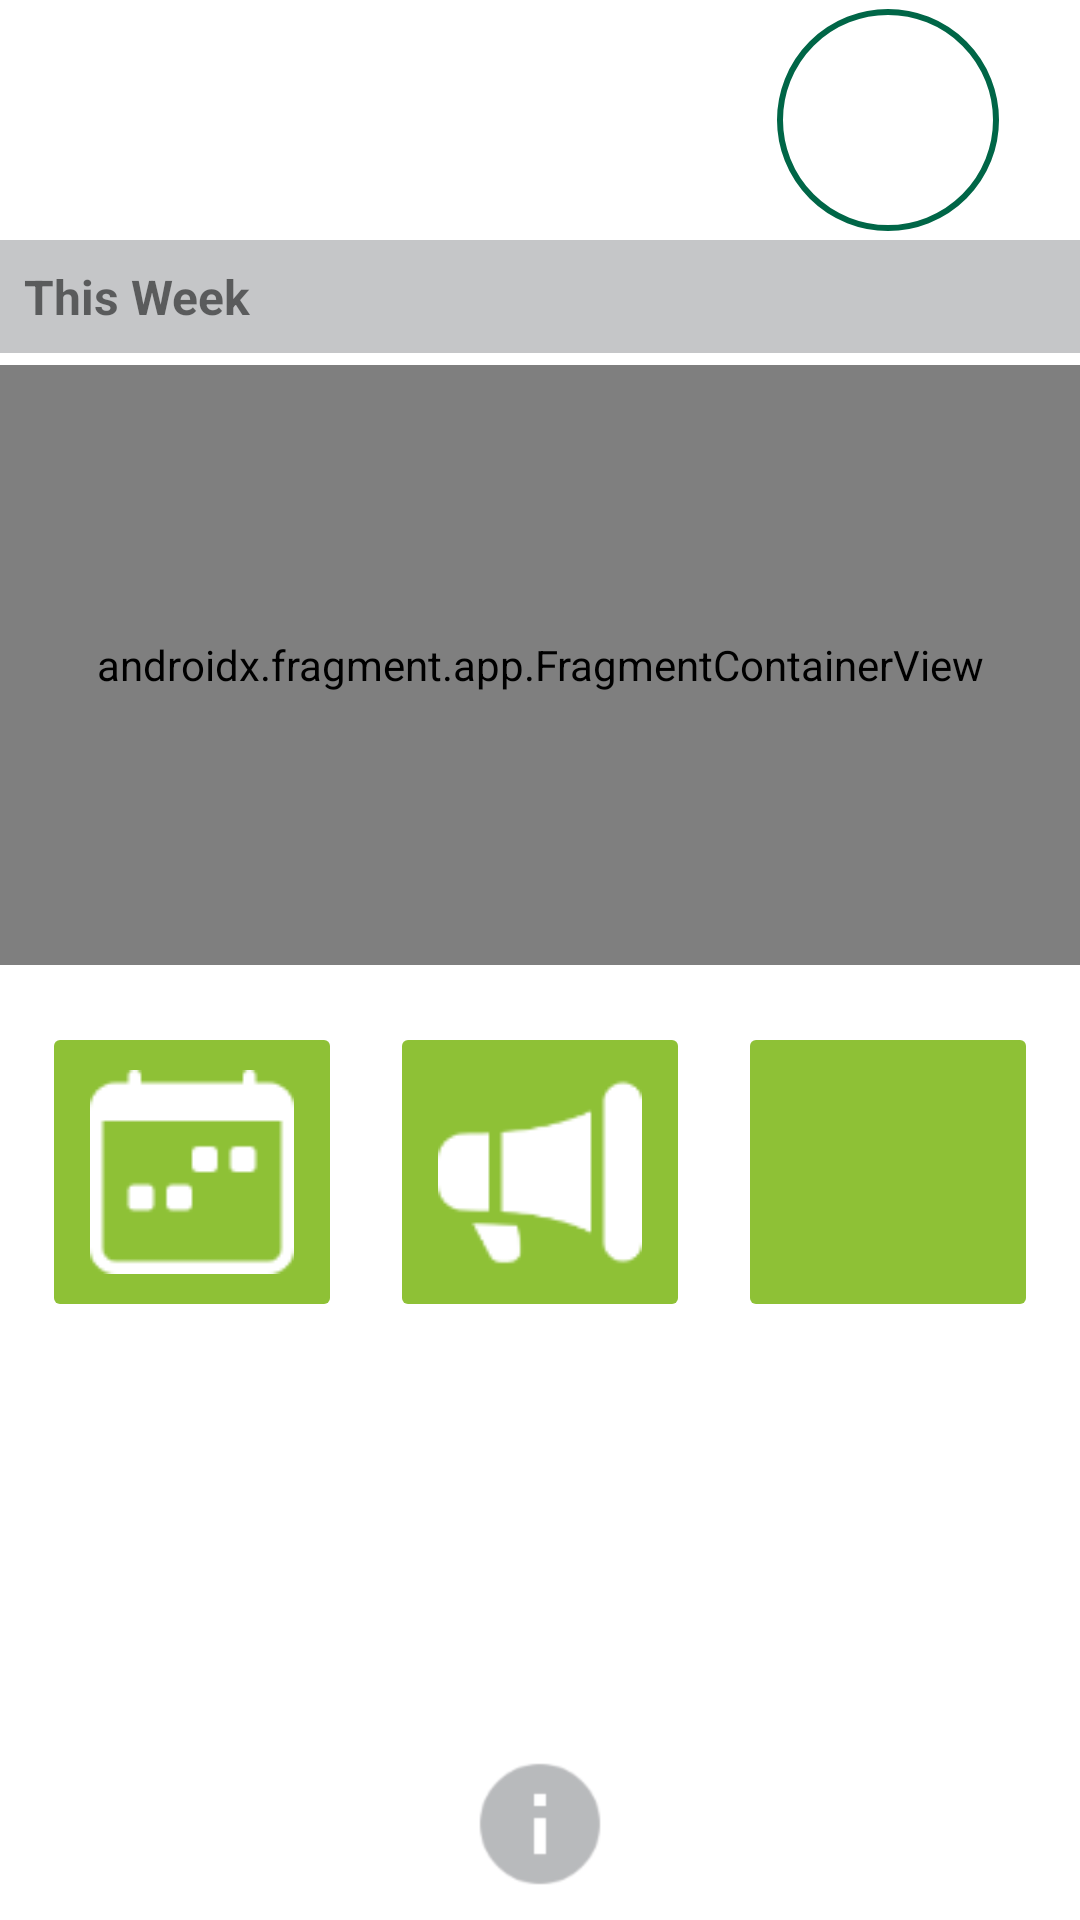

Icons on this 1080x1920 Android screen, each with the point to tap as (x,y):
Application Information: (540,1824)
Make An Announcement: (540,1172)
View All Events: (192,1172)
